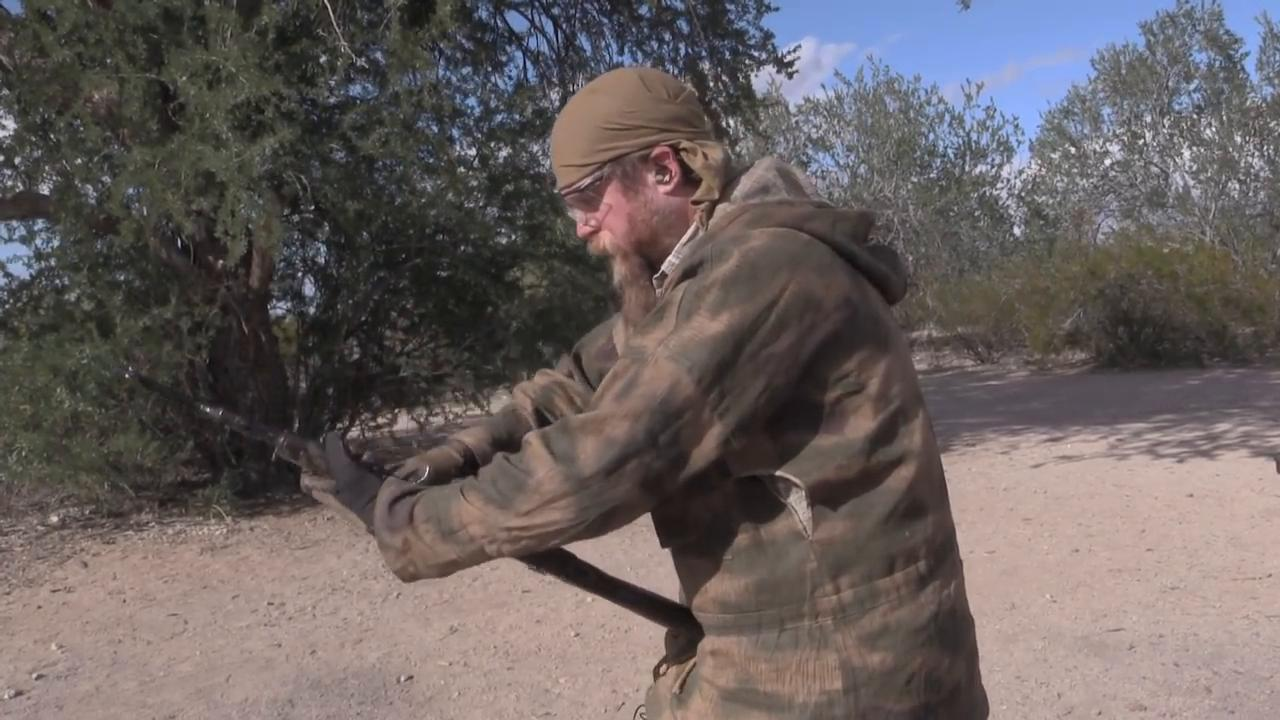AK47 Rifle: (123, 369, 693, 626)
